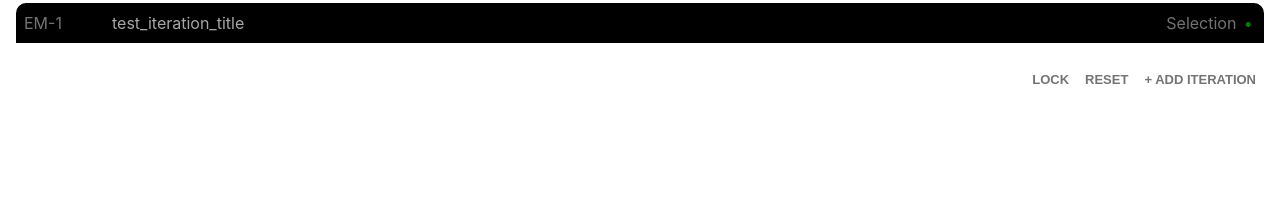
it: IterationLists Component › Add interation mode effect after click on +ADD INTERATION button
Click the button "+ ADD ITERATION". click: (1200, 80)
box: [1144,70,1256,90]
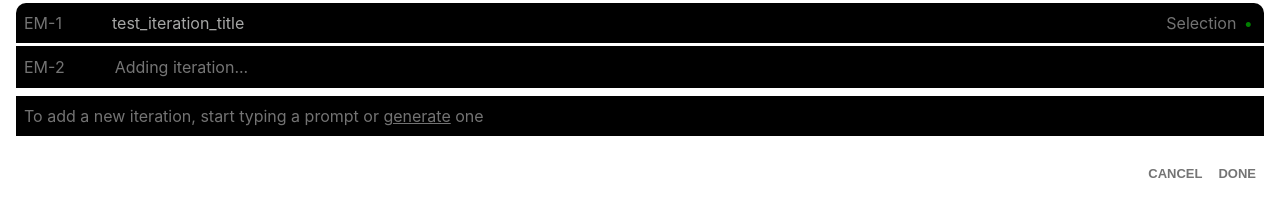
Now the text "EM-2" is shown, box [24,55,65,79]
Now the button "DONE" is shown, box [1218,164,1256,183]
